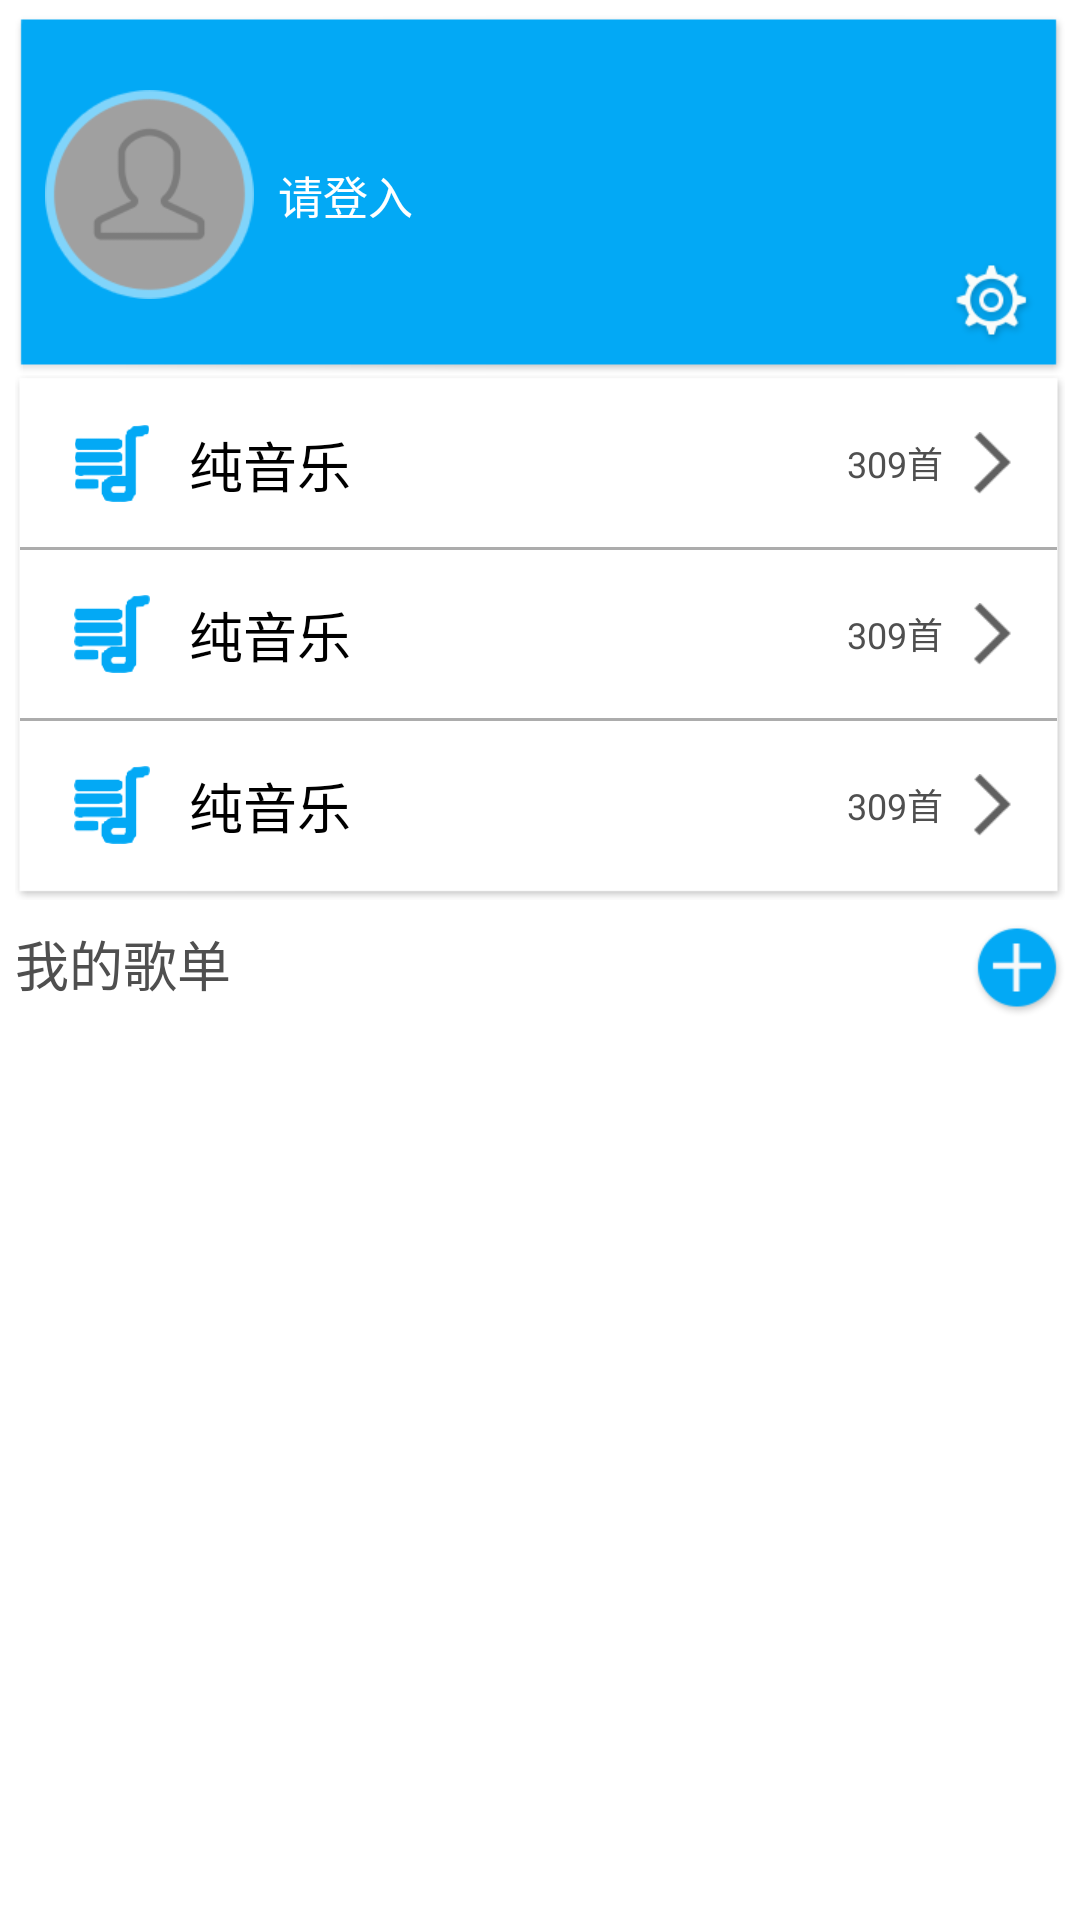

Named icons in this screenshot (1080 x 1920) and their centers, point (x, y):
playlist: point (112, 463), point (112, 634), point (112, 805)
playlist add: point (1017, 969)
Settings: point (991, 300)
user: point (149, 194)
